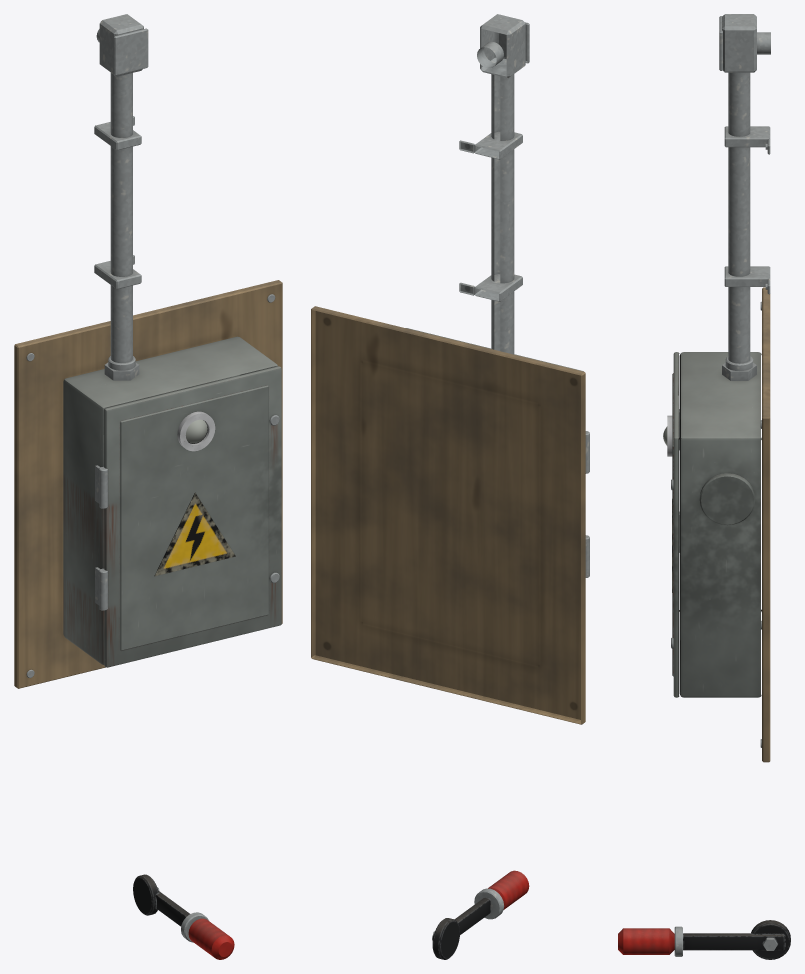
Rendered from Breaker.fbx.
3 views of the same model, side by side, from view 1: azimuth 30°, elevation 25°; view 2: azimuth 150°, elevation 25°; view 3: azimuth 270°, elevation 25° (orthographic). The views are drawn at different scales.
Parts seen in each view (by area): view 1: Breaker, BreakerLever; view 2: Breaker, BreakerLever; view 3: Breaker, BreakerLever.
Part boxes in pixels (x1=…): Breaker: x1=14, y1=14, x2=282, y2=688; BreakerLever: x1=133, y1=874, x2=234, y2=959; Breaker: x1=311, y1=14, x2=589, y2=724; BreakerLever: x1=432, y1=870, x2=529, y2=959; Breaker: x1=667, y1=14, x2=770, y2=762; BreakerLever: x1=618, y1=920, x2=790, y2=959.
Size of the model in its own units: 3 by 9.85 by 1.68.
Materials: 2 (1 with a texture image).
